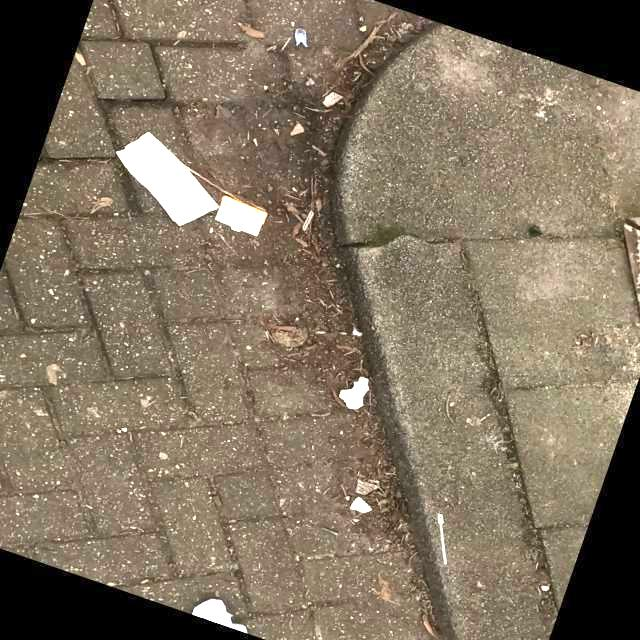Paper: (115, 130, 219, 226), (214, 194, 268, 236), (192, 597, 248, 635), (338, 376, 369, 410)
